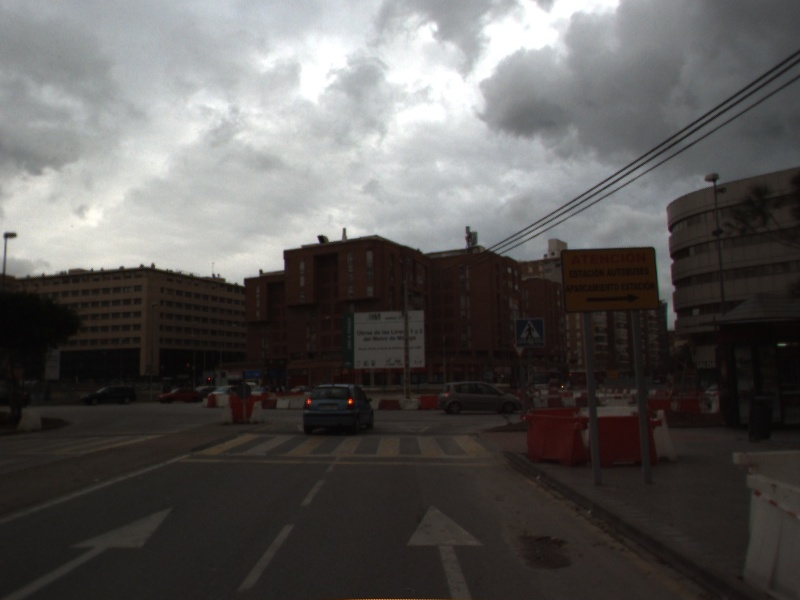STRAIGHT: (1, 501, 181, 600), (403, 500, 488, 600)
